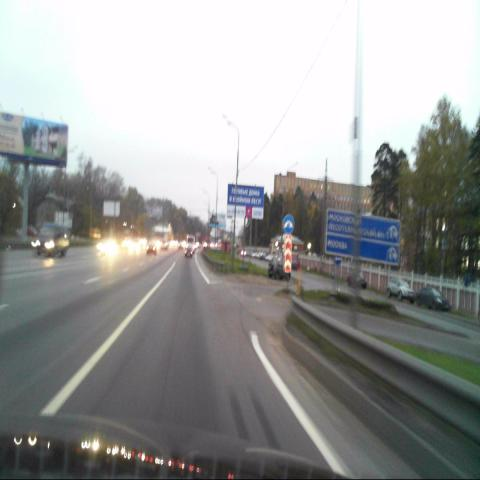4_2_3: (283, 215, 294, 235)
